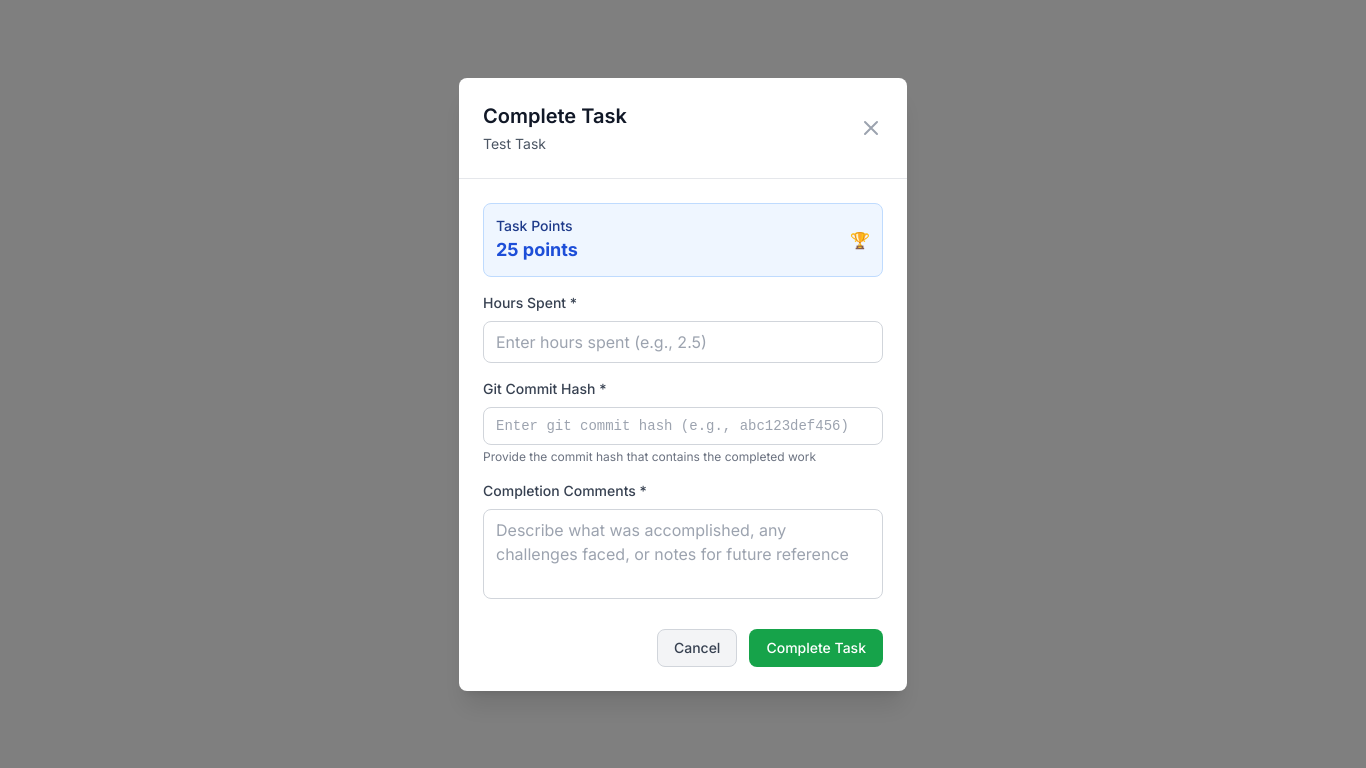
CompleteTaskModal › Form Submission › handles submission errors
The width and height of the screenshot is (1366, 768).
In the number field labelled "Hours Spent *": (683, 342) [483, 320, 883, 362], type "2.5"
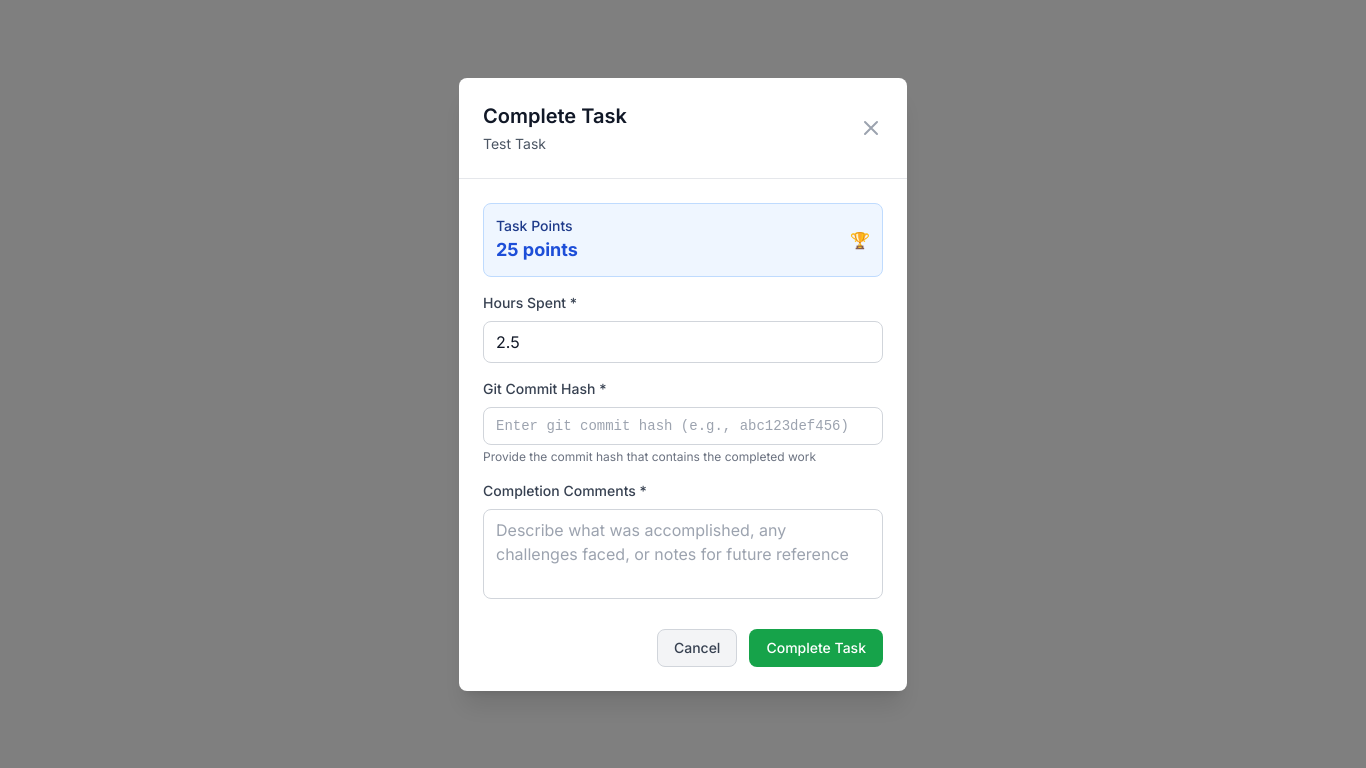
In the field labelled "Git Commit Hash *": (683, 426) [483, 406, 883, 444], type "abc123def456"
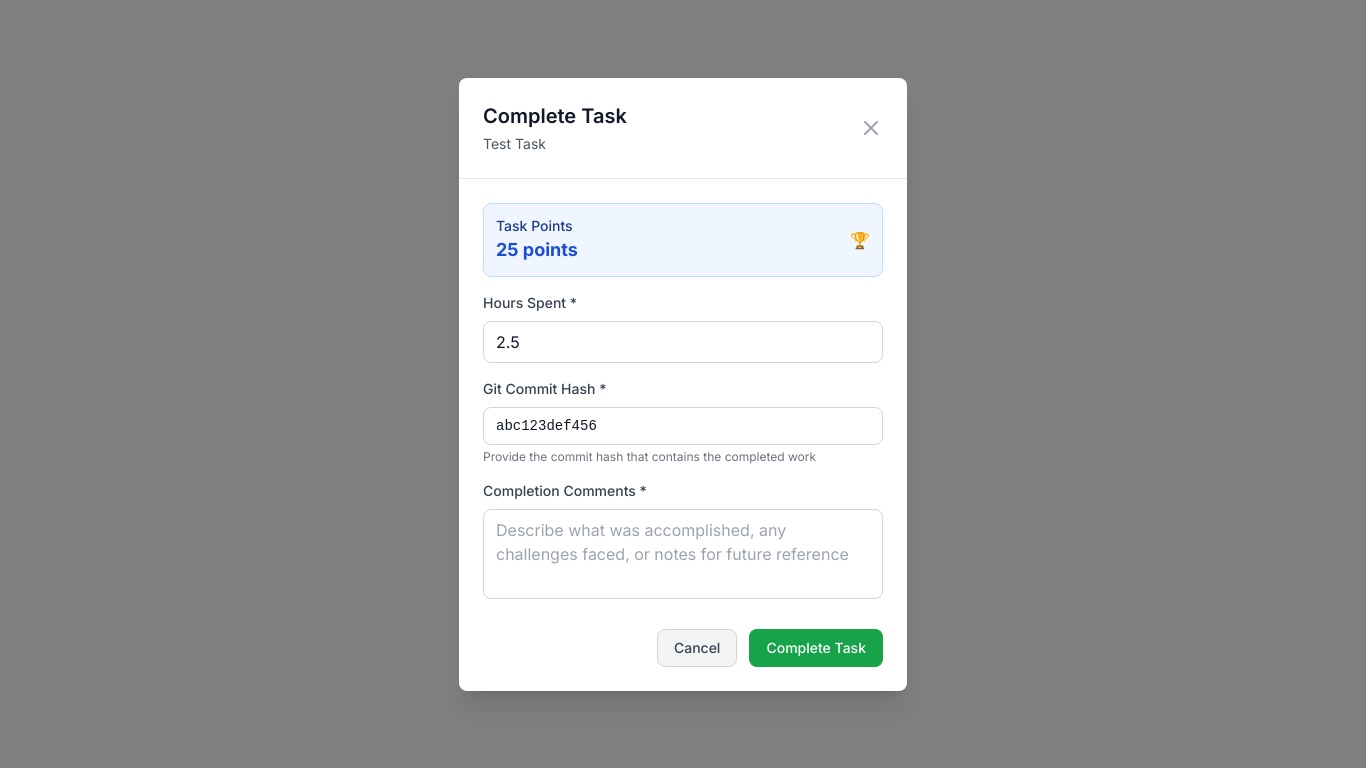
Replace the text in the text box labelled "Completion Comments *" with "Task completed": (683, 554) [483, 508, 883, 598]
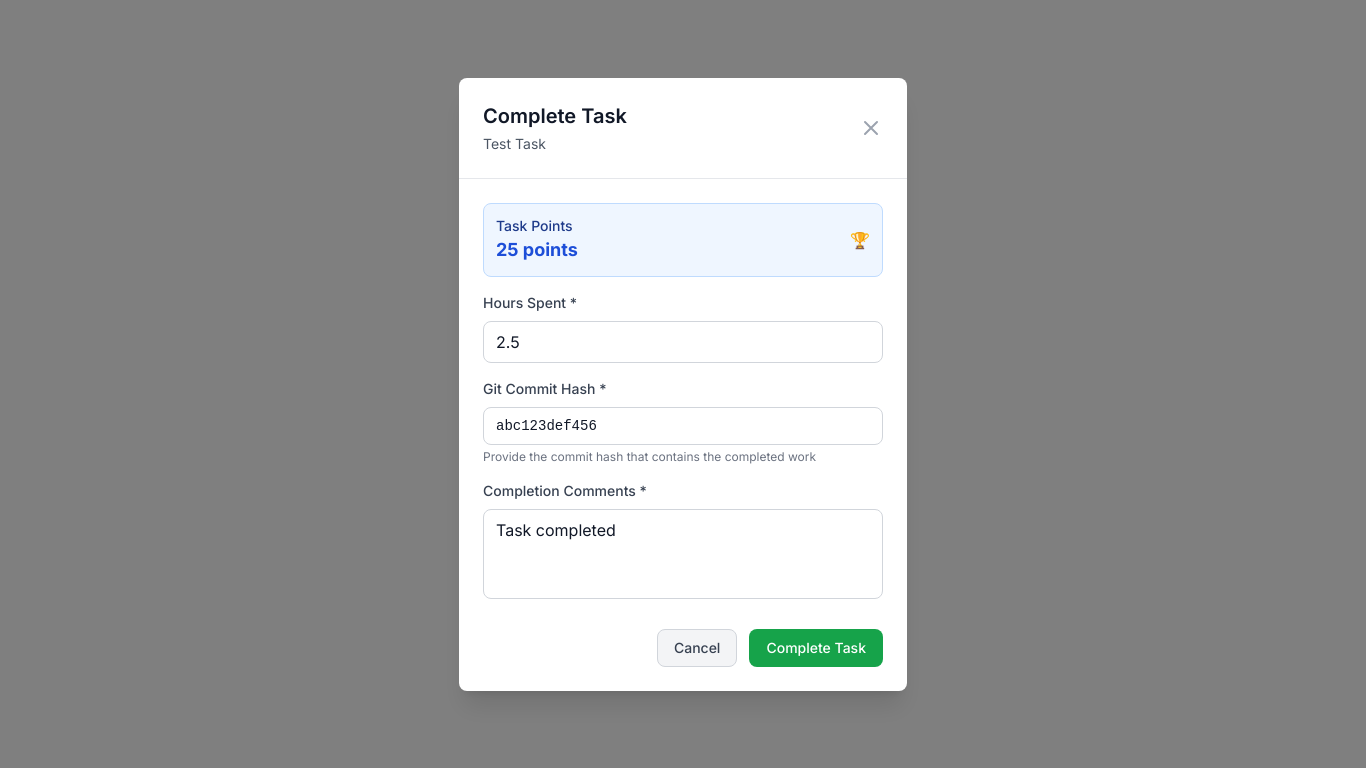
Click the button "Complete Task": click(816, 648) [749, 628, 883, 666]
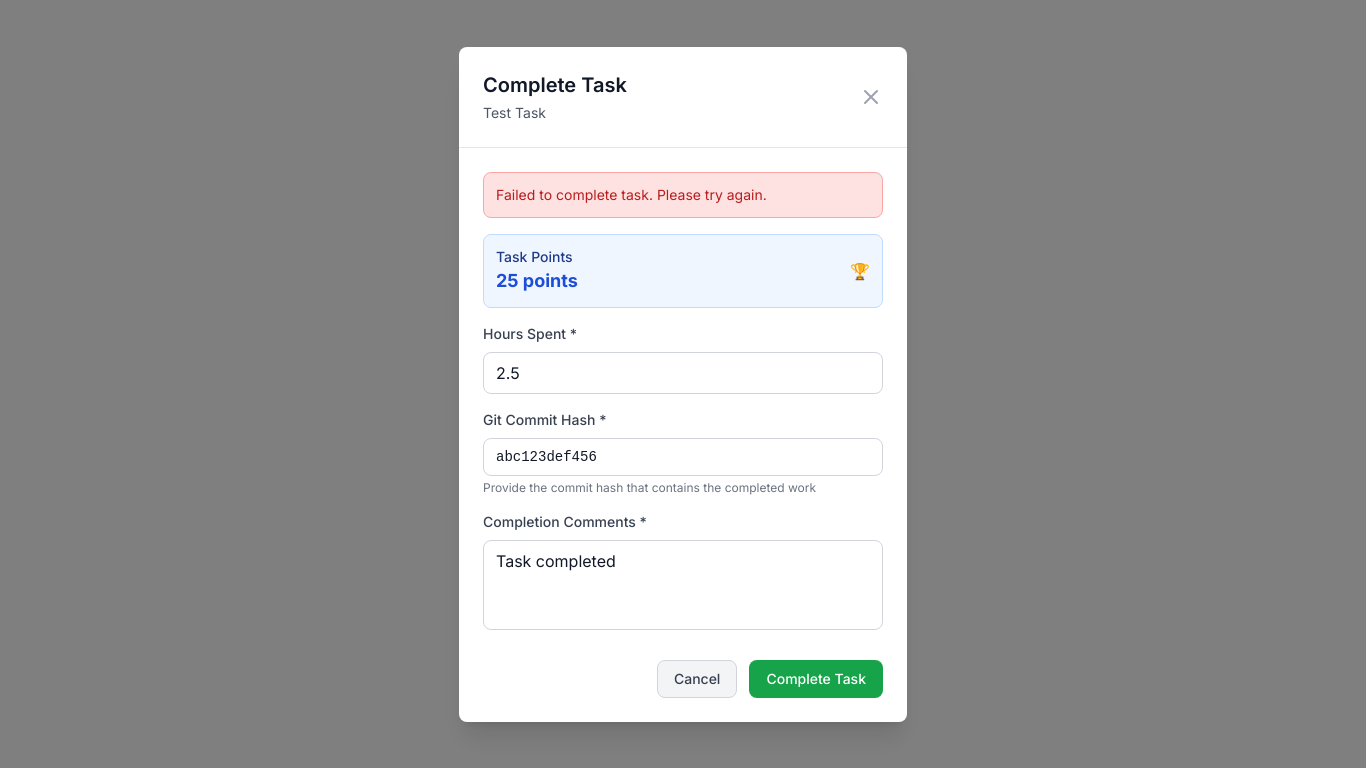
Result: the text "Failed to complete task. Please try again." is shown at [496, 186, 767, 202]
